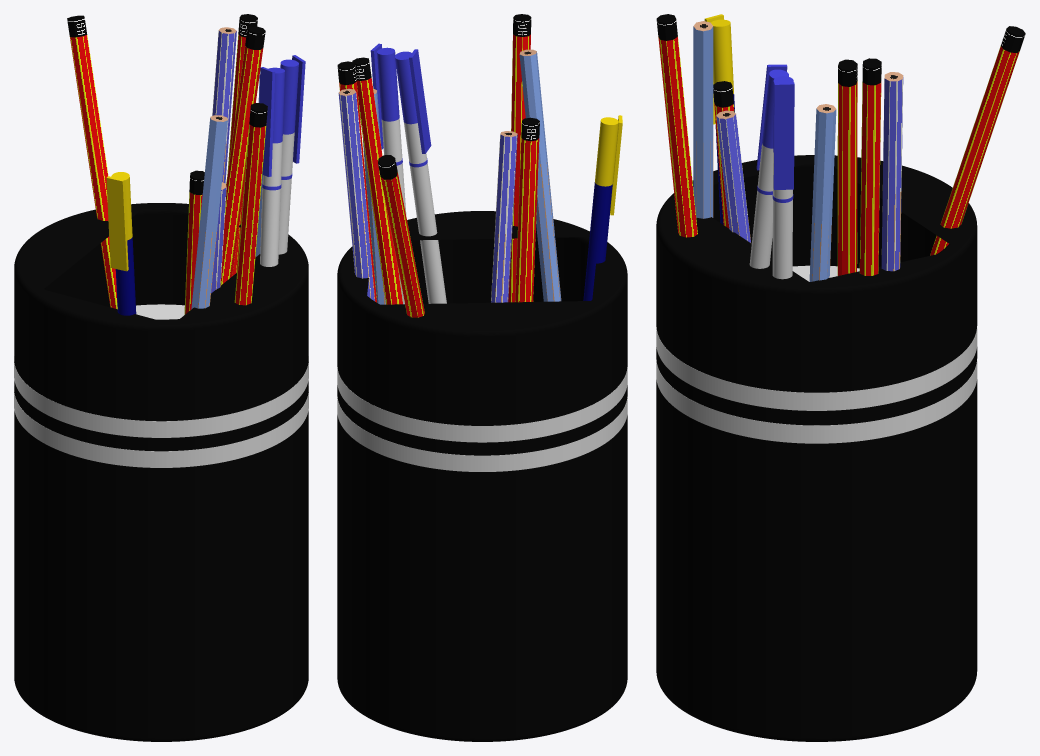
The model's file is pencilcup.fbx.
The picture shows the model from 3 angles, left to right: view 1: azimuth 30°, elevation 25°; view 2: azimuth 150°, elevation 25°; view 3: azimuth 270°, elevation 25°; orthographic projection. The views are drawn at different scales.
Parts seen in each view (by area): view 1: Cylinder.002, Cylinder, Cylinder.001, Cylinder.008, Cylinder.006, Cube.002, Cylinder.016, Cylinder.010, Cylinder.024, Cube.001, Cylinder.012, Cylinder.009 (+2 smaller); view 2: Cylinder.002, Cube.002, Cylinder.001, Cylinder, Cylinder.008, Cylinder.016, Cylinder.012, Cylinder.024, Cylinder.009, Cylinder.013, Cylinder.006, Cube.001 (+3 smaller); view 3: Cylinder.002, Cylinder, Cylinder.001, Cylinder.006, Cylinder.010, Cylinder.008, Cube.001, Cylinder.005, Cylinder.016, Cylinder.012, Cylinder.015, Cube.002 (+3 smaller).
Boxes of the visible parts, <box> form: Cylinder.002: <box>14,203,308,741</box>; Cylinder: <box>14,304,308,437</box>; Cylinder.001: <box>14,386,308,467</box>; Cylinder.008: <box>220,26,265,285</box>; Cylinder.006: <box>67,15,117,309</box>; Cube.002: <box>259,67,284,266</box>; Cylinder.016: <box>191,115,227,309</box>; Cylinder.010: <box>234,103,267,305</box>; Cylinder.024: <box>106,172,136,315</box>; Cube.001: <box>278,55,305,254</box>; Cylinder.012: <box>212,27,236,183</box>; Cylinder.009: <box>184,170,204,314</box>; Cylinder.002: <box>337,211,627,741</box>; Cube.002: <box>395,49,446,303</box>; Cylinder.001: <box>337,397,627,471</box>; Cylinder: <box>337,367,627,442</box>; Cylinder.008: <box>352,57,402,304</box>; Cylinder.016: <box>519,49,561,301</box>; Cylinder.012: <box>338,88,375,301</box>; Cylinder.024: <box>583,115,622,300</box>; Cylinder.009: <box>515,117,539,302</box>; Cylinder.013: <box>491,131,517,302</box>; Cylinder.006: <box>378,155,424,317</box>; Cube.001: <box>370,43,406,304</box>; Cylinder.002: <box>656,155,977,741</box>; Cylinder: <box>656,265,977,410</box>; Cylinder.001: <box>656,359,977,443</box>; Cylinder.006: <box>930,26,1025,255</box>; Cylinder.010: <box>656,14,697,237</box>; Cylinder.008: <box>837,59,857,275</box>; Cube.001: <box>772,76,794,279</box>; Cylinder.005: <box>859,58,881,275</box>; Cylinder.016: <box>693,21,713,218</box>; Cylinder.012: <box>881,72,903,271</box>; Cylinder.015: <box>809,104,836,281</box>; Cube.002: <box>749,64,788,268</box>.
Size of the model in its own units: 8.01 by 18.52 by 9.22.
Materials: 9 (4 with a texture image).
